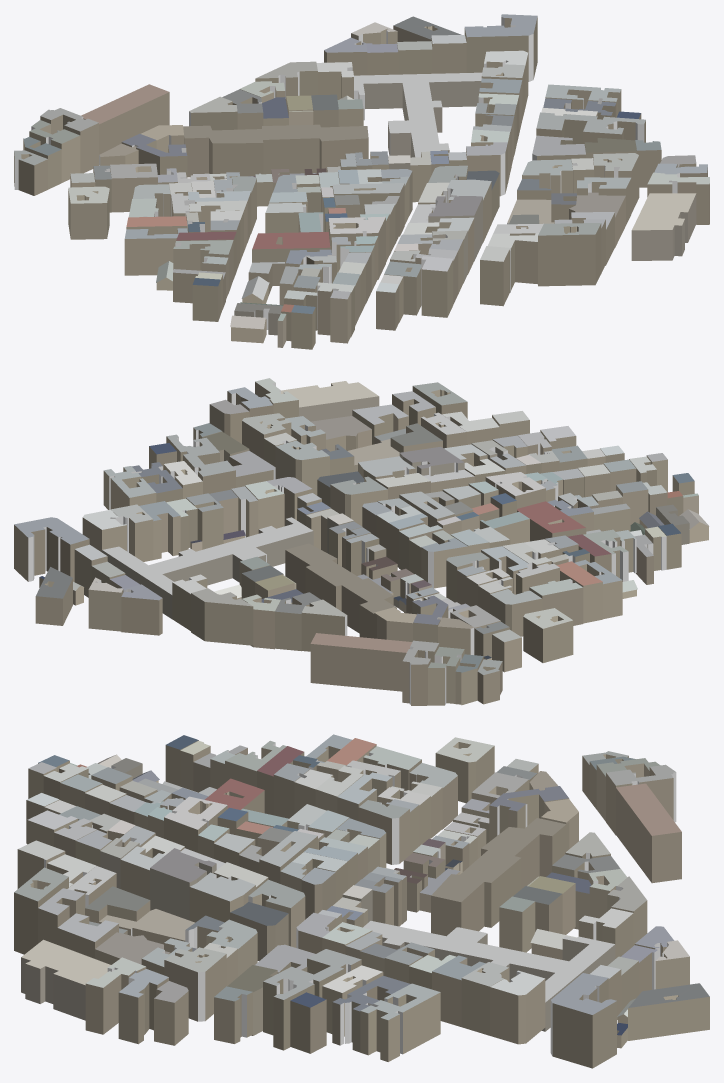
The picture shows the model from 3 angles, top to bottom: view 1: azimuth 30°, elevation 25°; view 2: azimuth 150°, elevation 25°; view 3: azimuth 270°, elevation 25°; orthographic projection. The views are drawn at different scales.
Parts seen in each view (by area): view 1: tuile; view 2: tuile; view 3: tuile.
Boxes of the visible parts, x1,y1,x2,y2 form: tuile: (14, 14, 709, 349); tuile: (14, 378, 709, 705); tuile: (14, 734, 709, 1068).
Size of the model in its own units: 275 by 32.65 by 273.
